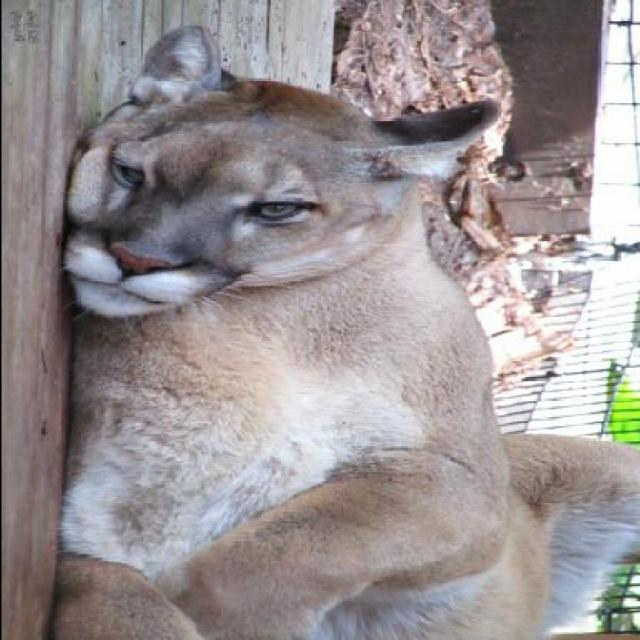Lion: (44, 17, 636, 635)
